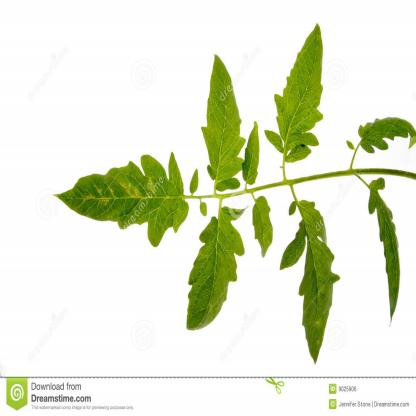tomato leaf: (56, 143, 191, 265), (172, 196, 254, 356), (277, 188, 343, 373), (258, 11, 331, 173), (202, 34, 250, 200)
